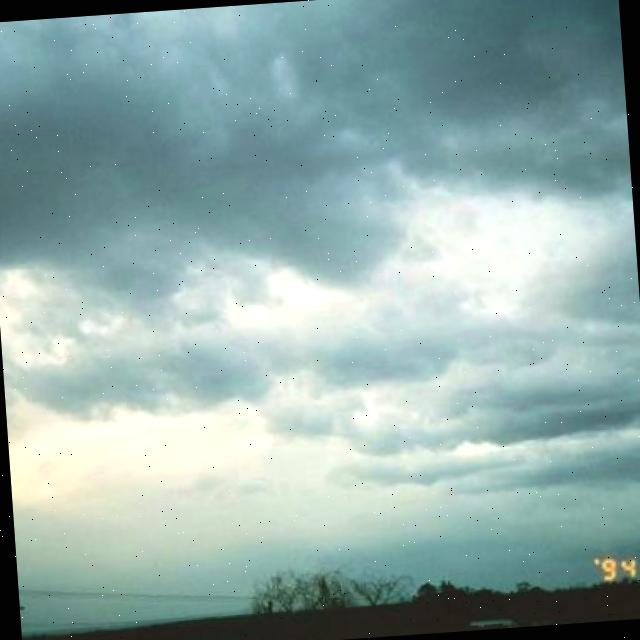Ns: (1, 85, 640, 534)
